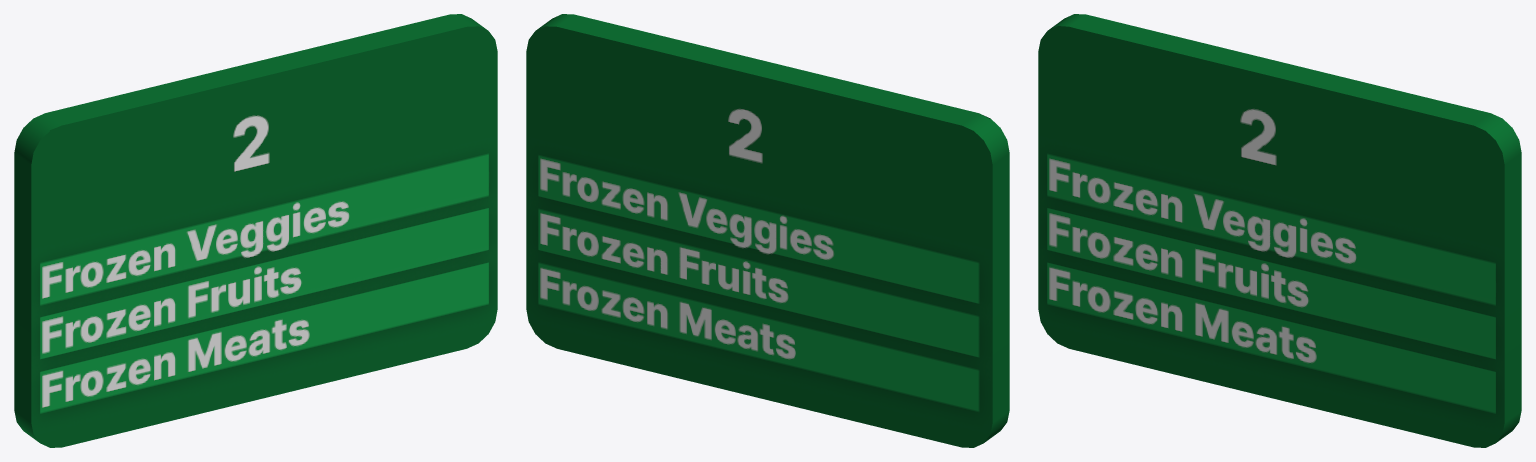
The model's file is aisle2sign.fbx.
3 views of the same model, side by side, from view 1: azimuth 30°, elevation 25°; view 2: azimuth 150°, elevation 25°; view 3: azimuth 330°, elevation 25° (orthographic).
Parts seen in each view (by area): view 1: pCube1; view 2: pCube1; view 3: pCube1.
Boxes of the visible parts, x1,y1,x2,y2 form: pCube1: (14, 14, 497, 447); pCube1: (526, 14, 1009, 447); pCube1: (1038, 14, 1521, 447).
Size of the model in its own units: 15.9 by 10.49 by 1.
